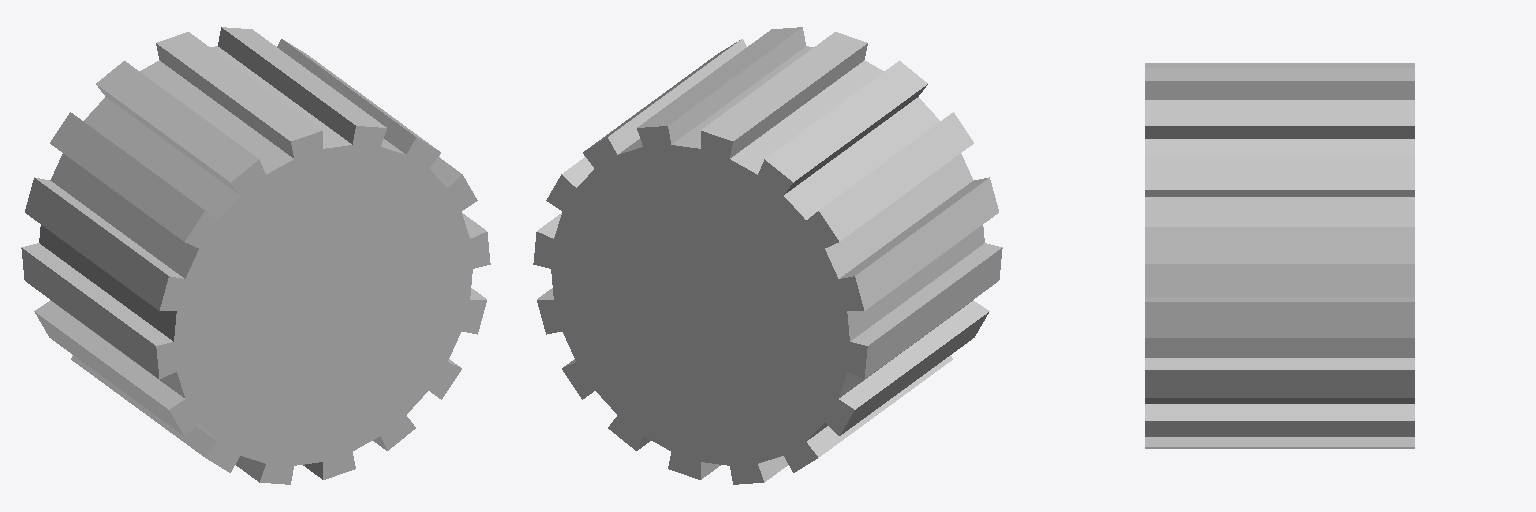
Rendered from rueda.obj.
3 renders of one model, left to right at view 1: azimuth 30°, elevation 25°; view 2: azimuth 150°, elevation 25°; view 3: azimuth 270°, elevation 25°, orthographic.
Visible parts, largest first — view 1: Cylinder; view 2: Cylinder; view 3: Cylinder.
Boxes of the visible parts, box(x1,y1,x2,y2) form: Cylinder: box(21, 27, 490, 484); Cylinder: box(533, 27, 1002, 484); Cylinder: box(1145, 63, 1414, 448).
Size of the model in its own units: 0.3976 by 0.3976 by 0.2779.